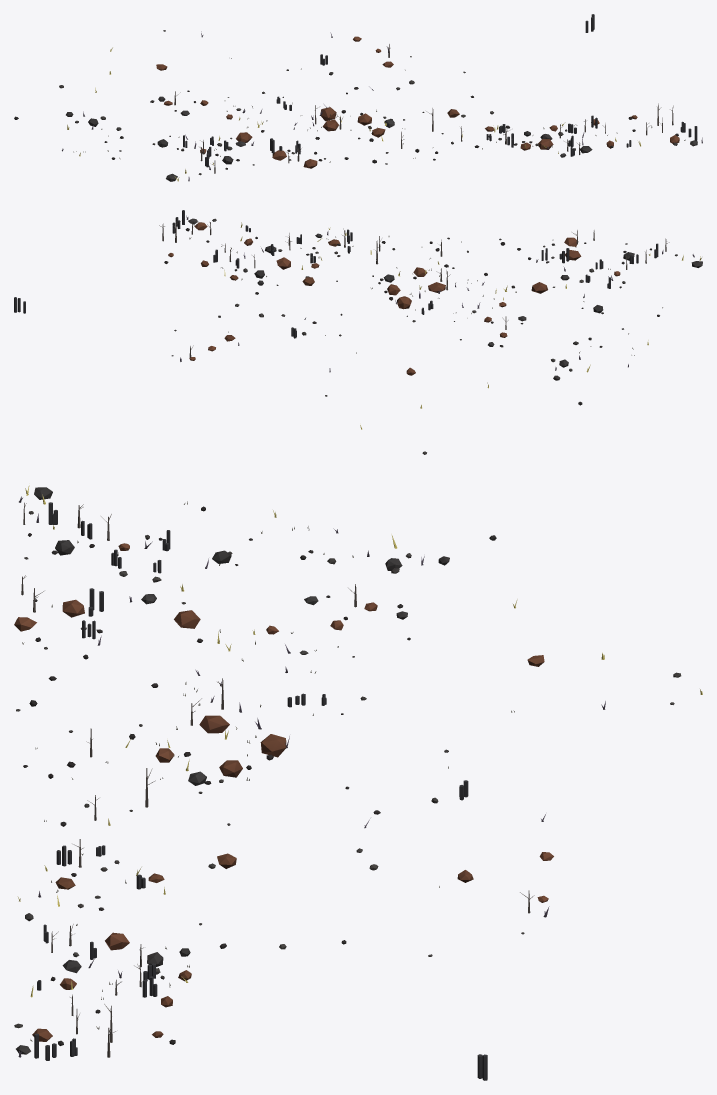
The model's file is ash_land_scatter_c18_27_lod1.glb.
3 views of the same model, one above another, from view 1: azimuth 30°, elevation 25°; view 2: azimuth 150°, elevation 25°; view 3: azimuth 270°, elevation 25° (orthographic). The views are drawn at different scales.
Visible parts, largest first — view 1: ash_land_scatter_c18_27_lod1; view 2: ash_land_scatter_c18_27_lod1; view 3: ash_land_scatter_c18_27_lod1.
Boxes of the visible parts, <box> form: ash_land_scatter_c18_27_lod1: <box>14,14,702,181</box>; ash_land_scatter_c18_27_lod1: <box>14,210,702,454</box>; ash_land_scatter_c18_27_lod1: <box>14,485,702,1080</box>.
Bounding box in the file's own units: 232 × 40.17 × 146.
